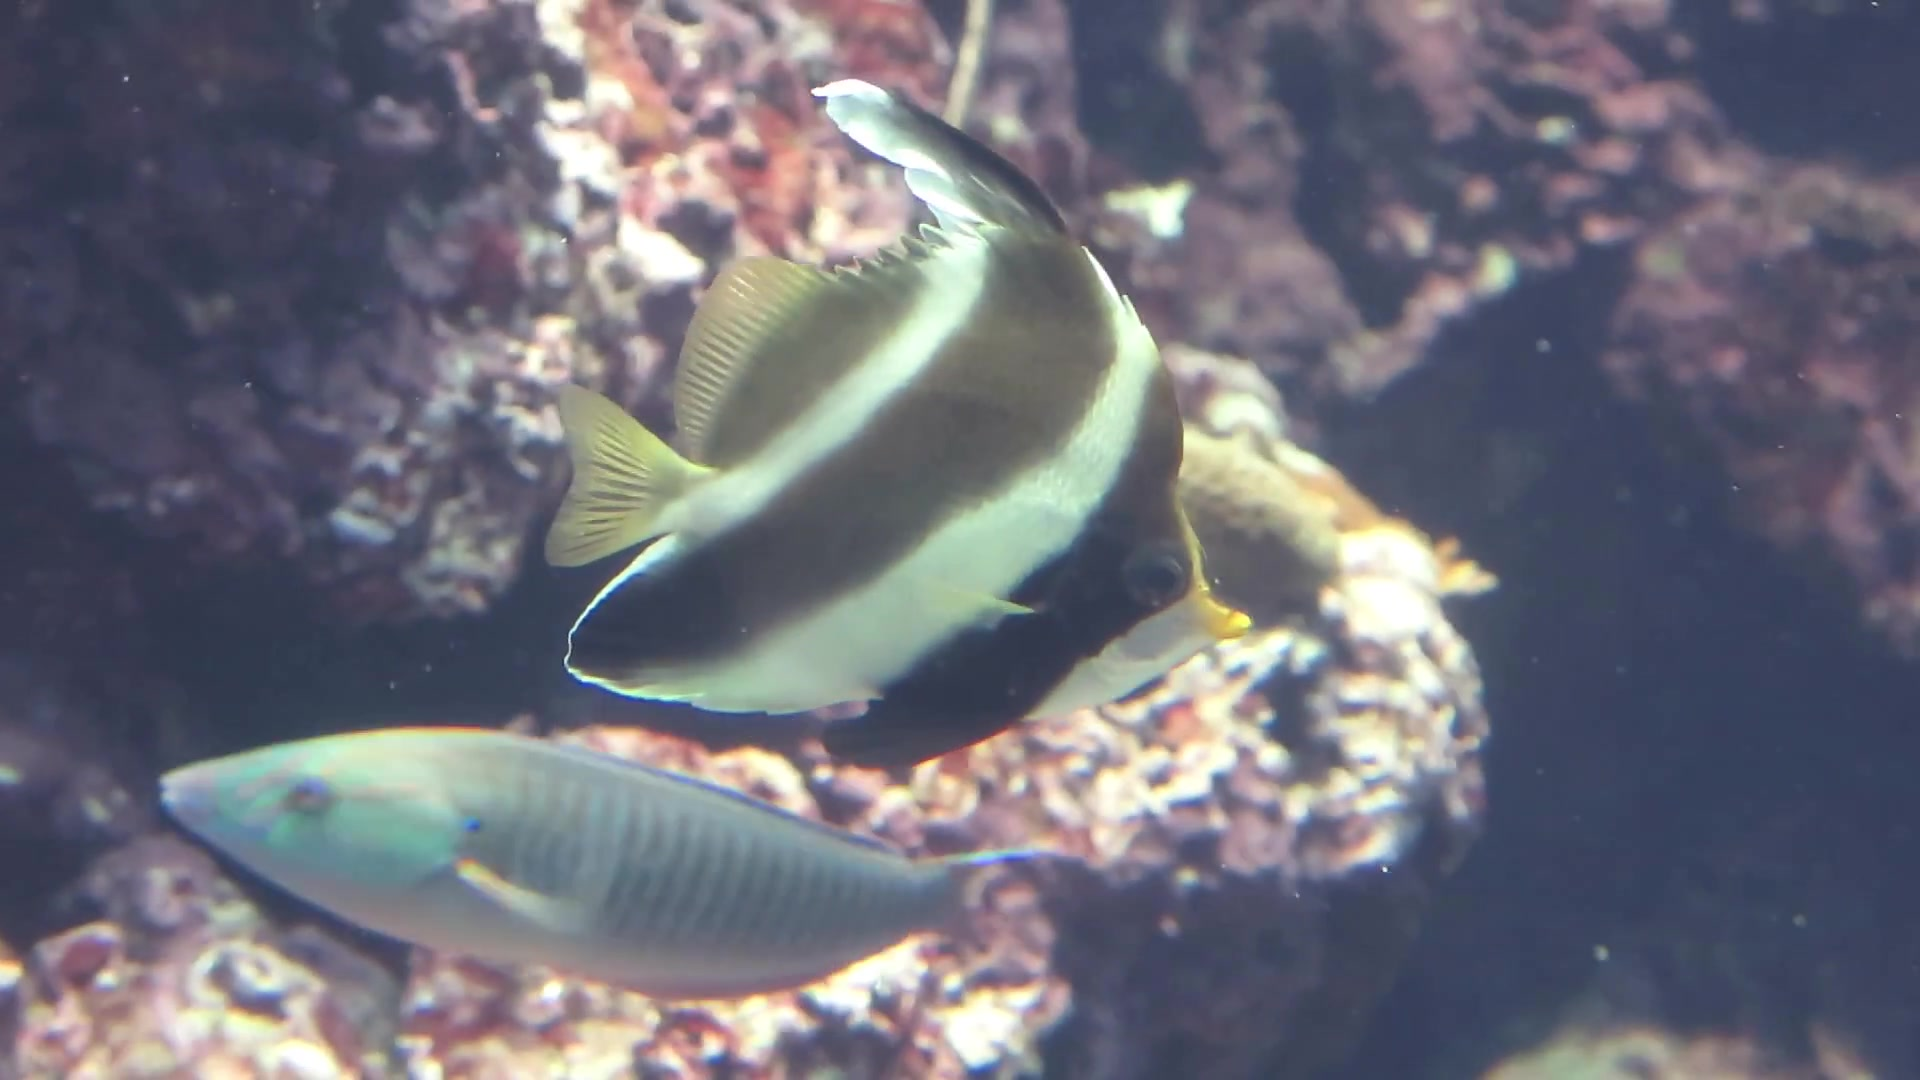Heniochus chrysostomus: (541, 40, 1299, 779)
